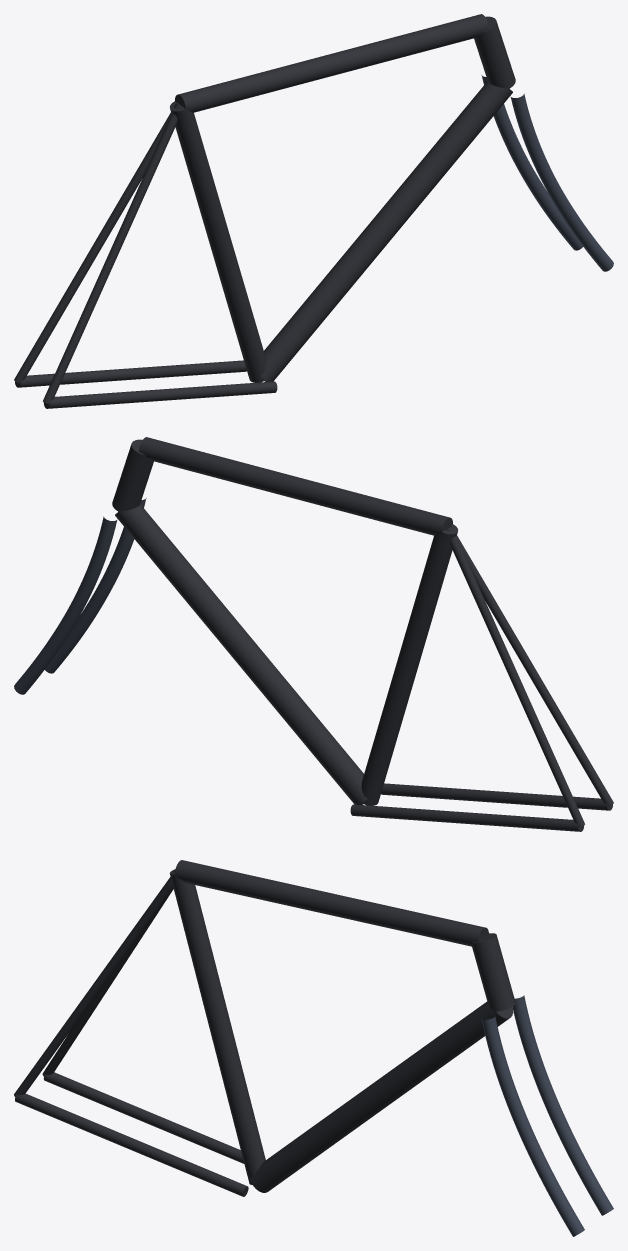
The model's file is state-black-label-v3-52.glb.
3 renders of one model, top to bottom at view 1: azimuth 30°, elevation 25°; view 2: azimuth 150°, elevation 25°; view 3: azimuth 330°, elevation 25°, orthographic.
Visible parts, largest first — view 1: paint_down, paint_top, paint_seat, paint_seatstay_0.045, fork_0.045, paint_chainstay_0.045, paint_seatstay_-0.045, paint_chainstay_-0.045, fork_-0.045, paint_head; view 2: paint_down, paint_top, paint_seat, paint_seatstay_-0.045, fork_-0.045, paint_chainstay_-0.045, paint_seatstay_0.045, paint_chainstay_0.045, fork_0.045, paint_head; view 3: paint_down, paint_top, paint_seat, fork_0.045, fork_-0.045, paint_chainstay_0.045, paint_chainstay_-0.045, paint_seatstay_0.045, paint_head, paint_seatstay_-0.045.
Boxes of the visible parts, bbox=[...] form: paint_down: bbox=[260, 81, 512, 381]; paint_top: bbox=[175, 14, 488, 112]; paint_seat: bbox=[170, 101, 266, 382]; paint_seatstay_0.045: bbox=[43, 104, 182, 404]; fork_0.045: bbox=[510, 93, 613, 271]; paint_chainstay_0.045: bbox=[43, 381, 277, 408]; paint_seatstay_-0.045: bbox=[14, 103, 179, 383]; paint_chainstay_-0.045: bbox=[15, 360, 246, 387]; fork_-0.045: bbox=[481, 75, 582, 250]; paint_head: bbox=[474, 16, 515, 88]; paint_down: bbox=[115, 504, 367, 804]; paint_top: bbox=[139, 437, 452, 535]; paint_seat: bbox=[361, 524, 457, 805]; paint_seatstay_-0.045: bbox=[445, 527, 584, 827]; fork_-0.045: bbox=[14, 516, 117, 694]; paint_chainstay_-0.045: bbox=[350, 804, 584, 831]; paint_seatstay_0.045: bbox=[448, 526, 613, 806]; paint_chainstay_0.045: bbox=[381, 783, 612, 810]; fork_0.045: bbox=[45, 498, 146, 673]; paint_head: bbox=[112, 439, 153, 511]; paint_down: bbox=[250, 1001, 513, 1192]; paint_top: bbox=[175, 860, 488, 946]; paint_seat: bbox=[169, 869, 265, 1184]; fork_0.045: bbox=[481, 1016, 584, 1236]; fork_-0.045: bbox=[512, 995, 613, 1215]; paint_chainstay_0.045: bbox=[15, 1093, 248, 1196]; paint_chainstay_-0.045: bbox=[43, 1072, 244, 1163]; paint_seatstay_0.045: bbox=[14, 870, 175, 1096]; paint_head: bbox=[471, 933, 515, 1011]; paint_seatstay_-0.045: bbox=[42, 888, 173, 1076].
Size of the model in its own units: 1.02 by 0.5435 by 0.112.
